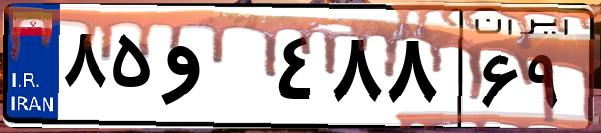4: (270, 28, 330, 110)
5: (110, 28, 158, 98)
6: (475, 38, 525, 113)
8: (385, 28, 445, 110), (330, 28, 385, 110), (57, 26, 110, 100)
9: (525, 38, 570, 115)
و: (158, 20, 270, 120)
